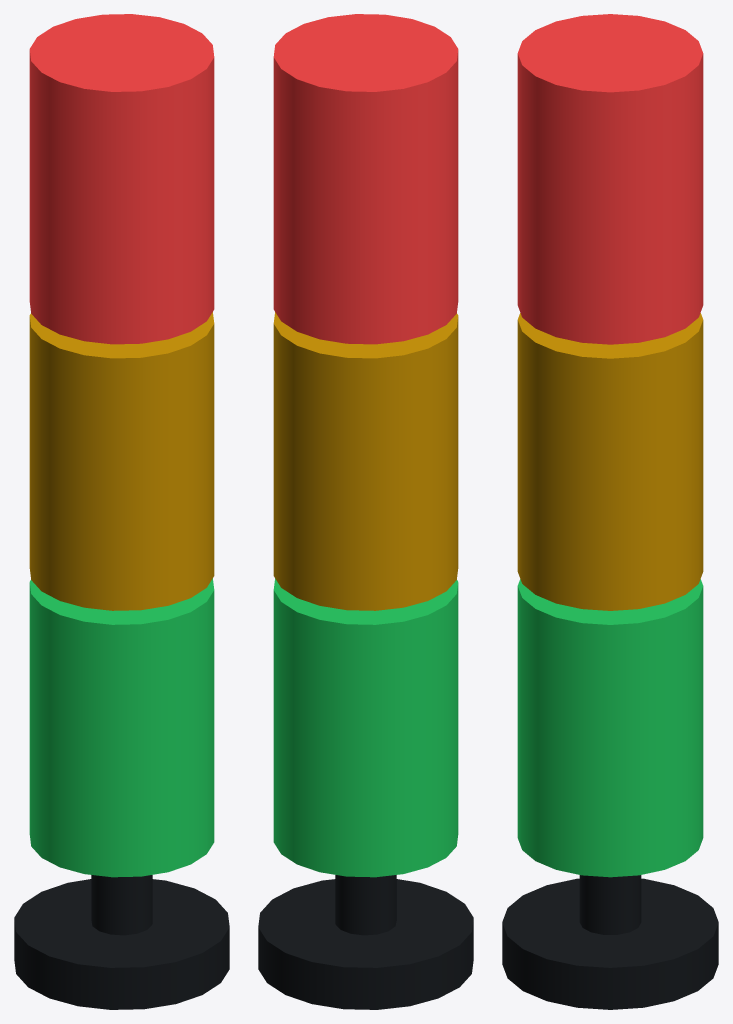
The picture shows the model from 3 angles, left to right: view 1: azimuth 30°, elevation 25°; view 2: azimuth 150°, elevation 25°; view 3: azimuth 270°, elevation 25°; orthographic projection.
Parts seen in each view (by area): view 1: red, green, amber, stack:base, stack:pole; view 2: red, green, amber, stack:base, stack:pole; view 3: red, green, amber, stack:base, stack:pole.
Part boxes in pixels (x1=…): red: x1=29, y1=14, x2=214, y2=344; green: x1=29, y1=578, x2=214, y2=877; amber: x1=29, y1=312, x2=214, y2=610; stack:base: x1=14, y1=879, x2=229, y2=1009; stack:pole: x1=91, y1=875, x2=152, y2=935; red: x1=273, y1=14, x2=458, y2=344; green: x1=273, y1=578, x2=458, y2=877; amber: x1=273, y1=312, x2=458, y2=610; stack:base: x1=258, y1=879, x2=473, y2=1009; stack:pole: x1=335, y1=875, x2=396, y2=935; red: x1=517, y1=14, x2=703, y2=344; green: x1=517, y1=579, x2=703, y2=877; amber: x1=517, y1=313, x2=703, y2=610; stack:base: x1=502, y1=878, x2=718, y2=1009; stack:pole: x1=579, y1=875, x2=641, y2=934.
Bounding box in the file's own units: 0.14 × 0.65 × 0.14.
